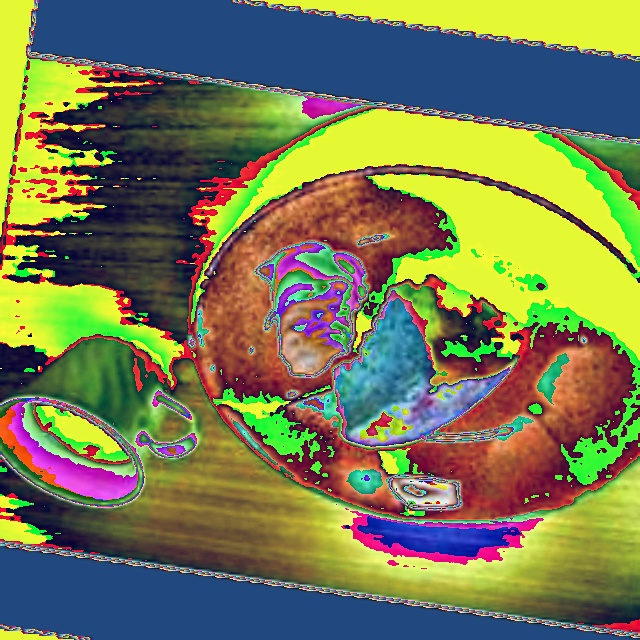background: (253, 215, 532, 454), (30, 67, 129, 469)
